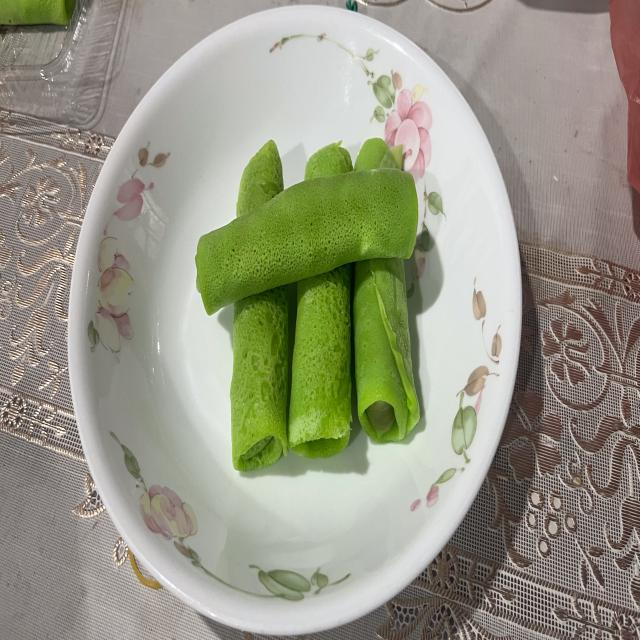Kuih-Ketayap: (195, 169, 419, 316), (288, 264, 351, 458), (354, 258, 420, 442), (230, 287, 289, 471), (236, 140, 284, 218), (305, 142, 352, 180), (355, 138, 402, 171)
